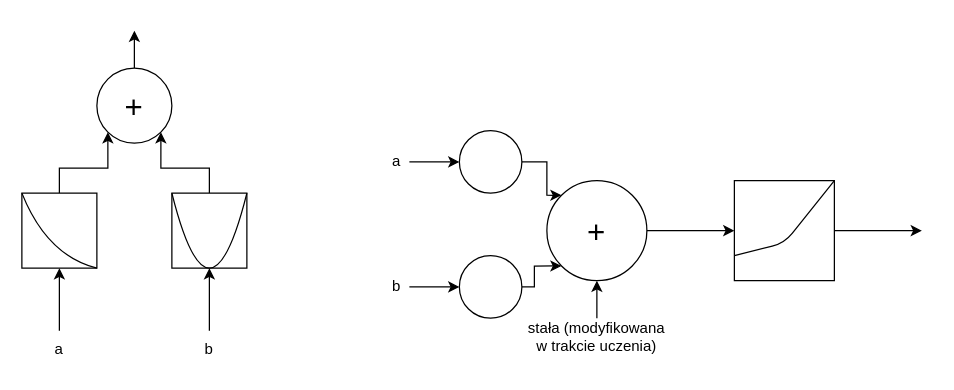
Some shapes in this 954 by 390 pixel diagram are drawn without their labels. The centre of each missing label's shape, as x and y in pixels:
"* W 1" goes at [490,161].
"* W 2" goes at [490,286].
